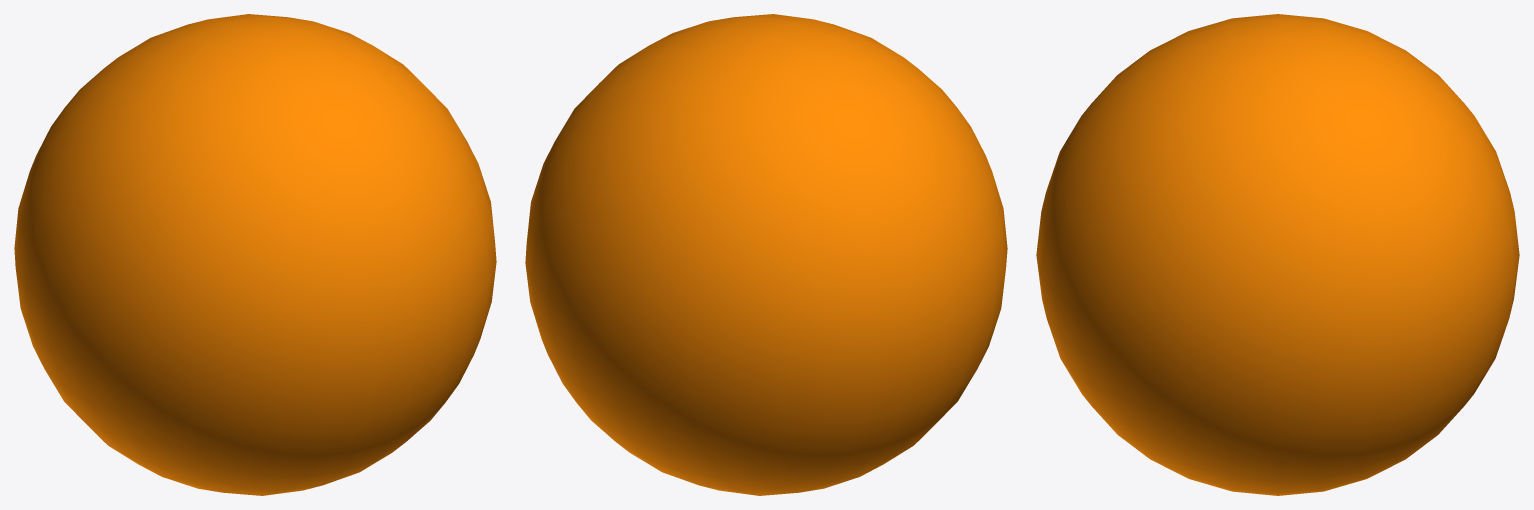
File: Ball.fbx
3 renders of one model, left to right at view 1: azimuth 30°, elevation 25°; view 2: azimuth 150°, elevation 25°; view 3: azimuth 270°, elevation 25°, orthographic.
Visible parts, largest first — view 1: Ball; view 2: Ball; view 3: Ball.
Boxes of the visible parts, x1,y1,x2,y2 form: Ball: (14, 14, 496, 495); Ball: (525, 14, 1007, 495); Ball: (1036, 14, 1519, 495).
Size of the model in its own units: 100 by 100 by 100.
